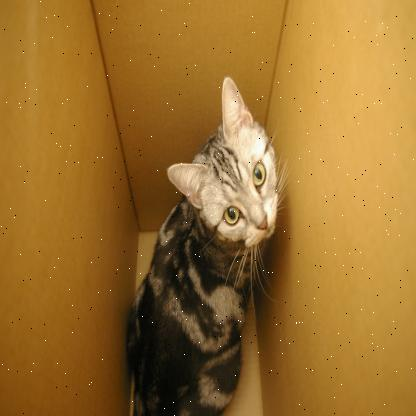cat: (128, 72, 284, 409)
